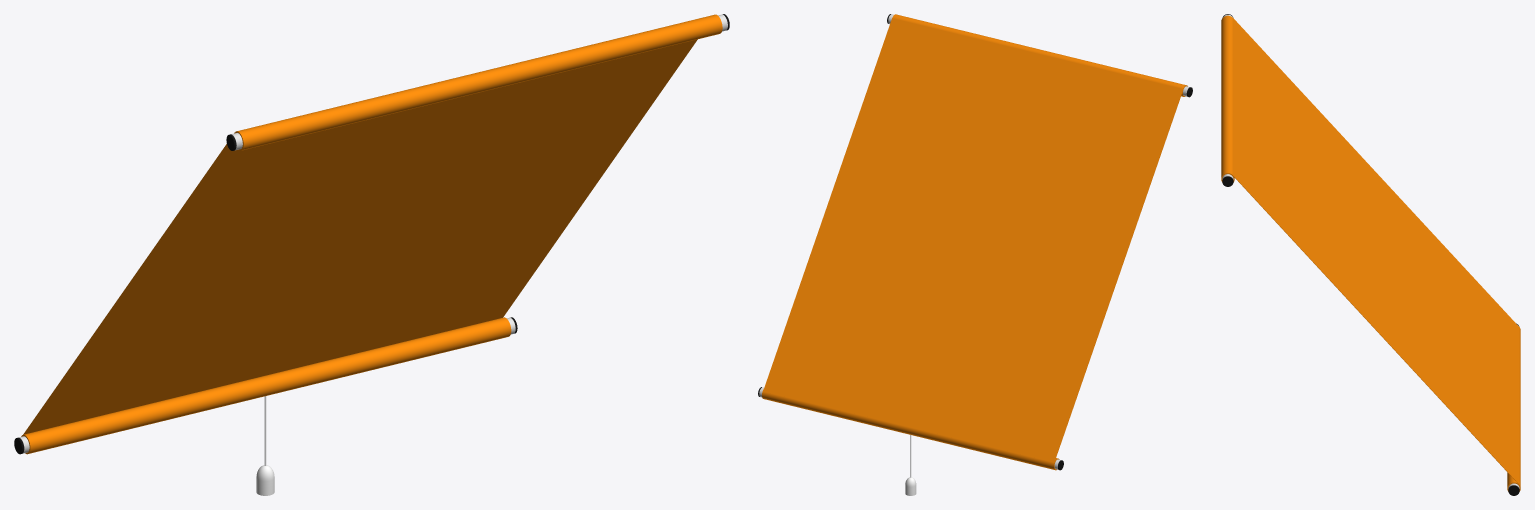
File: Dachfenster genormt (Velux, Roto, Braas, etc.).glb
The picture shows the model from 3 angles, left to right: view 1: azimuth 30°, elevation 25°; view 2: azimuth 150°, elevation 25°; view 3: azimuth 270°, elevation 25°; orthographic projection. The views are drawn at different scales.
Parts seen in each view (by area): view 1: Stoff.001, Stoffende.003, Stoffende.002; view 2: Stoff.001, Stoffende.003, Stoffende.002; view 3: Stoff.001, Stoffende.002, Stoffende.003.
Boxes of the visible parts, x1,y1,x2,y2 form: Stoff.001: [23, 39, 697, 434]; Stoffende.003: [21, 317, 511, 454]; Stoffende.002: [235, 14, 722, 150]; Stoff.001: [763, 18, 1183, 461]; Stoffende.003: [762, 389, 1059, 470]; Stoffende.002: [892, 14, 1187, 96]; Stoff.001: [1233, 18, 1518, 483]; Stoffende.002: [1221, 15, 1234, 181]; Stoffende.003: [1507, 327, 1520, 491].
Size of the model in its own units: 1.34 by 1.48 by 1.04.
Materials: 4 (1 with a texture image).
